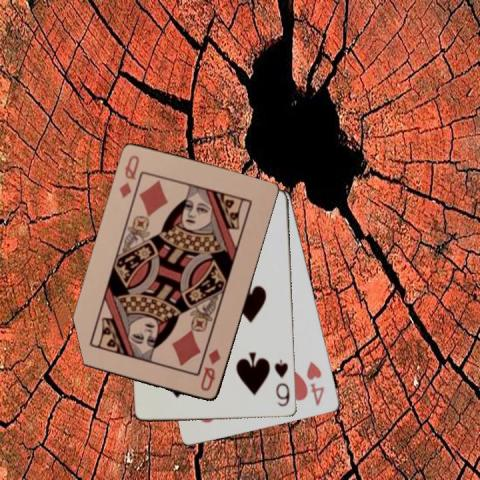4h: (305, 358, 326, 407)
6s: (272, 357, 291, 408)
Qd: (197, 346, 223, 393), (116, 152, 141, 200)
